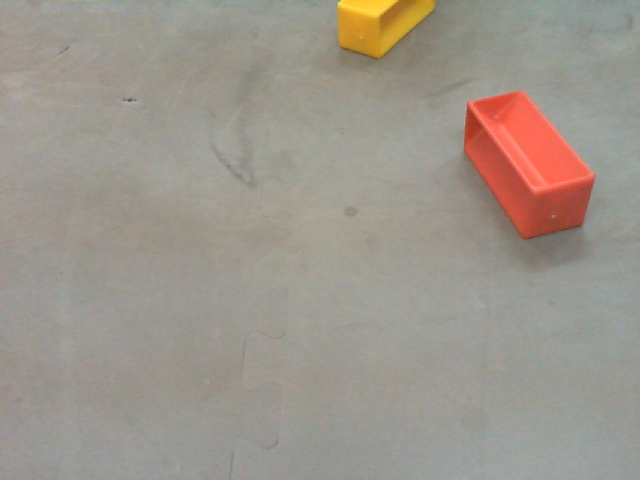RedSample: (463, 90, 597, 242)
YellowSample: (338, 1, 433, 57)
